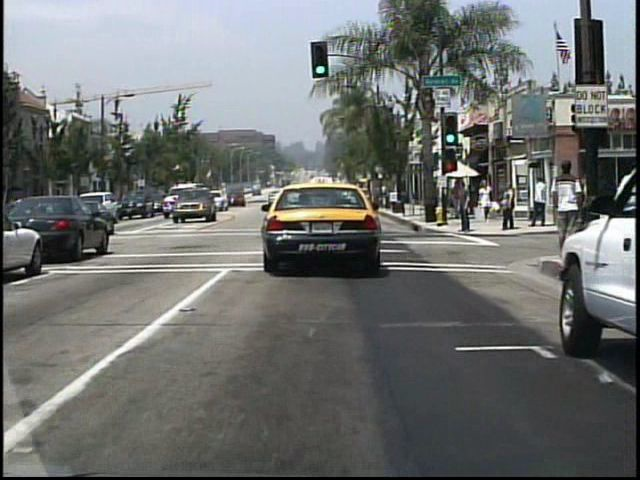person: (550, 157, 586, 263), (457, 182, 475, 237), (503, 182, 522, 231), (450, 180, 468, 226), (533, 175, 548, 228), (481, 180, 497, 223)
